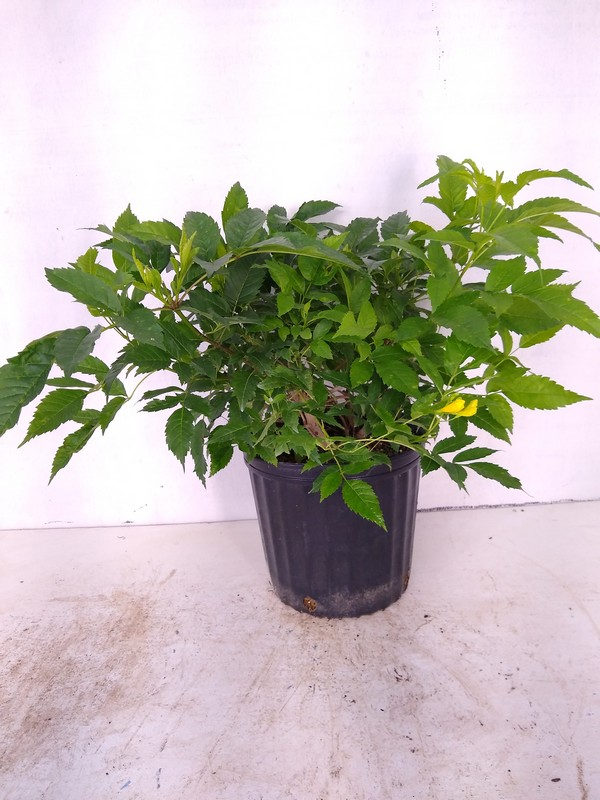plant: (3, 154, 600, 500)
pot: (242, 451, 422, 621)
